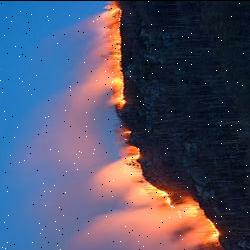fire: (115, 147, 226, 250), (96, 2, 126, 108)
